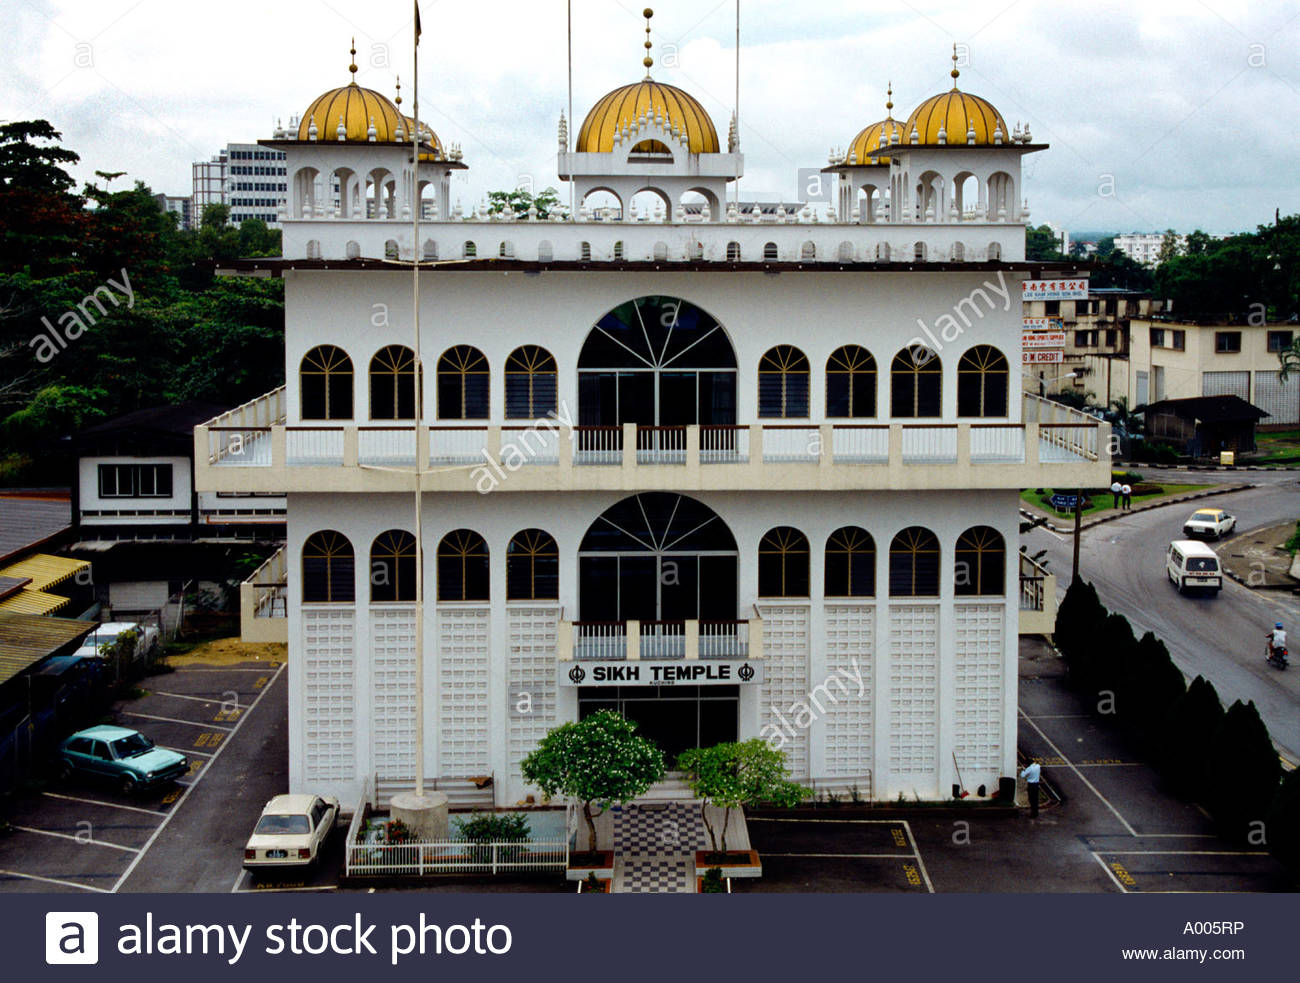Gurdwara: (216, 12, 1022, 804)
